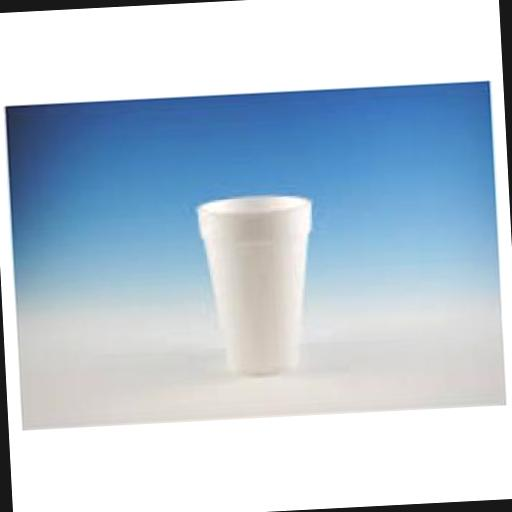paper: (195, 193, 320, 378)
